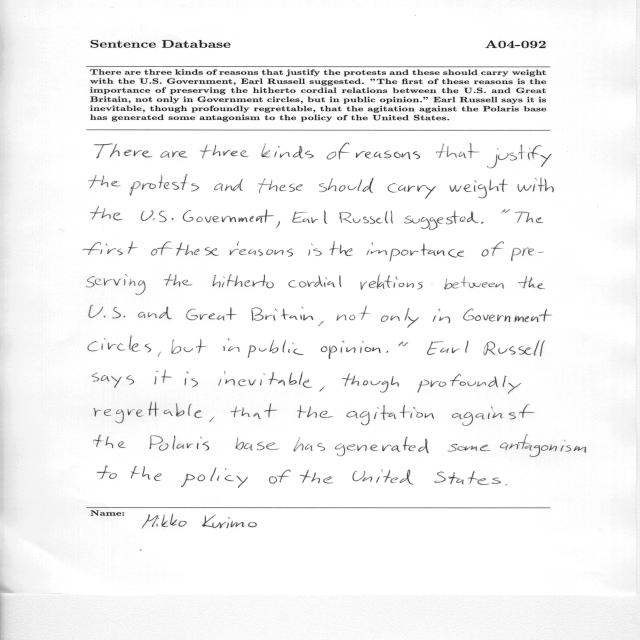word: (94, 403, 202, 424), (418, 374, 522, 394), (500, 435, 586, 457), (366, 243, 464, 262), (452, 404, 535, 426), (335, 437, 429, 456), (347, 405, 435, 425), (218, 371, 312, 388), (130, 174, 199, 196), (487, 145, 552, 168), (405, 211, 479, 230), (181, 468, 248, 488), (183, 209, 274, 223), (87, 274, 146, 295), (463, 309, 552, 322), (342, 373, 399, 393), (449, 179, 508, 198), (321, 341, 381, 359), (484, 340, 545, 357), (360, 274, 423, 290), (88, 336, 151, 352), (248, 340, 304, 358), (353, 469, 414, 485), (150, 435, 210, 451), (230, 242, 293, 257), (434, 471, 501, 485), (95, 144, 153, 159), (252, 307, 314, 321), (213, 275, 274, 289), (319, 178, 374, 193), (261, 144, 314, 159), (443, 277, 504, 290), (387, 183, 436, 199), (339, 210, 393, 224), (381, 308, 418, 328), (231, 403, 277, 419), (83, 242, 137, 255), (258, 178, 303, 193), (186, 308, 237, 321), (436, 143, 480, 158), (200, 145, 249, 158), (289, 275, 342, 287), (92, 373, 134, 388), (356, 151, 420, 160), (427, 341, 468, 355), (236, 438, 280, 451), (176, 243, 219, 256), (518, 178, 554, 193), (171, 339, 206, 354), (89, 305, 126, 319), (292, 210, 327, 224), (337, 306, 369, 321), (294, 437, 326, 452), (297, 405, 333, 418), (131, 466, 162, 481), (90, 207, 123, 221), (88, 175, 121, 188), (511, 248, 544, 261), (300, 470, 333, 483), (94, 435, 126, 448), (138, 307, 172, 319), (141, 210, 174, 222), (164, 274, 193, 287), (327, 143, 350, 159), (518, 276, 545, 289), (214, 179, 243, 191), (330, 241, 353, 256), (481, 242, 504, 257), (448, 444, 491, 452), (269, 469, 291, 484), (515, 212, 543, 223), (151, 242, 172, 256), (97, 466, 117, 479), (154, 370, 172, 384), (433, 309, 450, 323), (223, 338, 240, 352), (185, 372, 198, 388), (308, 243, 322, 256), (160, 151, 188, 157), (398, 342, 408, 347), (502, 209, 510, 213), (318, 321, 324, 326), (276, 221, 280, 228), (320, 387, 325, 392), (210, 417, 215, 422), (158, 352, 161, 356), (481, 222, 484, 224), (386, 351, 388, 353), (506, 484, 508, 486)
